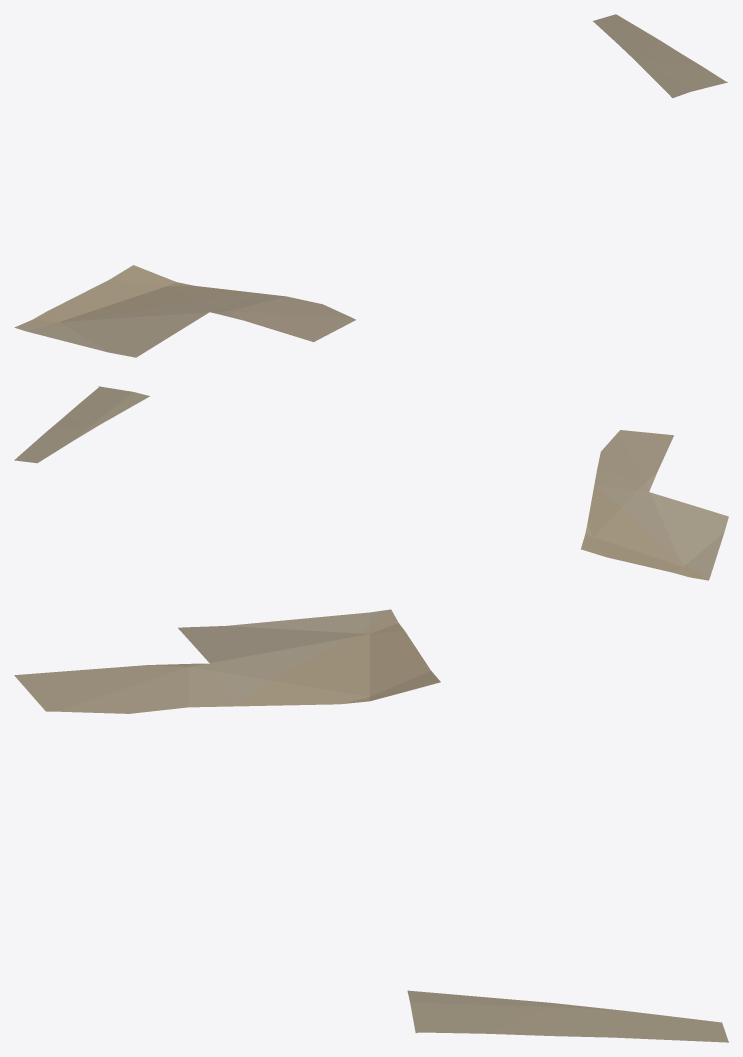
File: farm_-3_11_soil.glb
3 views of the same model, one above another, from view 1: azimuth 30°, elevation 25°; view 2: azimuth 150°, elevation 25°; view 3: azimuth 270°, elevation 25° (orthographic). The views are drawn at different scales.
Visible parts, largest first — view 1: geometry_0; view 2: geometry_0; view 3: geometry_0.
Boxes of the visible parts, x1,y1,x2,y2 form: geometry_0: (14, 14, 727, 357); geometry_0: (14, 386, 728, 580); geometry_0: (14, 609, 728, 1042).
Bounding box in the file's own units: 538 × 45.73 × 315.
